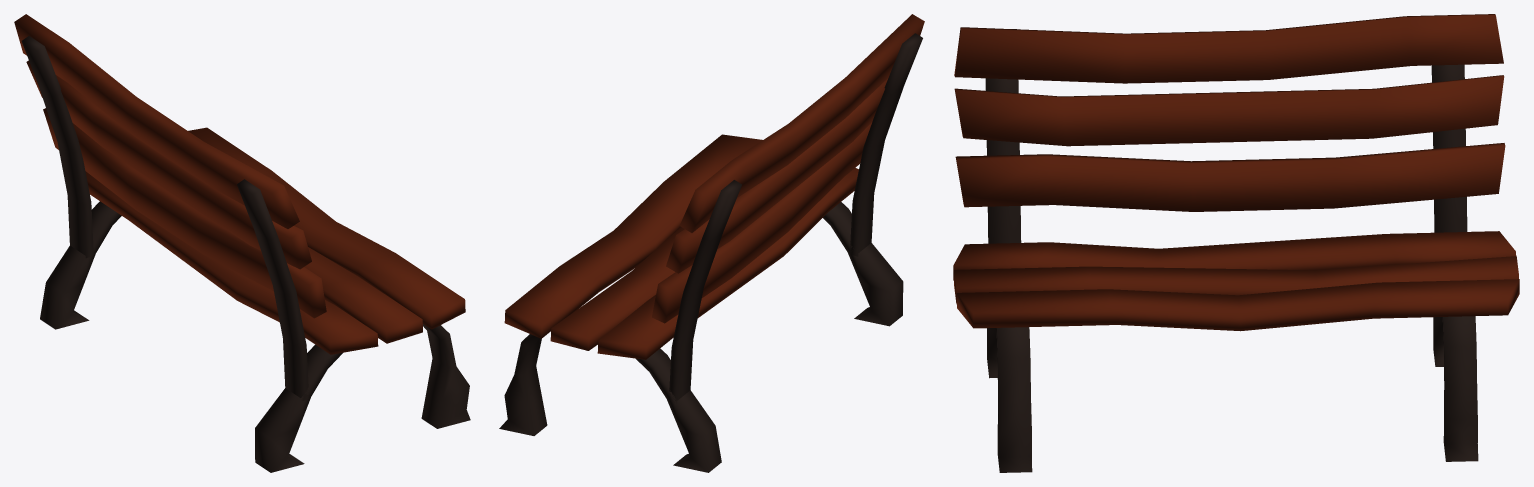
The model's file is Bench.fbx.
The picture shows the model from 3 angles, left to right: view 1: azimuth 30°, elevation 25°; view 2: azimuth 150°, elevation 25°; view 3: azimuth 270°, elevation 25°; orthographic projection. The views are drawn at different scales.
Parts seen in each view (by area): view 1: Bench; view 2: Bench; view 3: Bench.
Boxes of the visible parts, x1=… form: Bench: x1=14, y1=14, x2=470, y2=472; Bench: x1=499, y1=14, x2=924, y2=472; Bench: x1=953, y1=14, x2=1519, y2=472.
Size of the model in its own units: 0.7819 by 1.41 by 0.9198.
